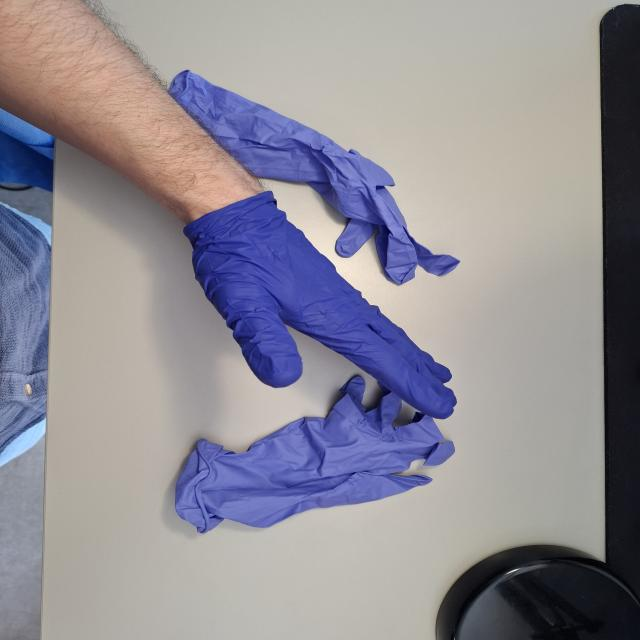glove_on: (178, 186, 463, 423)
